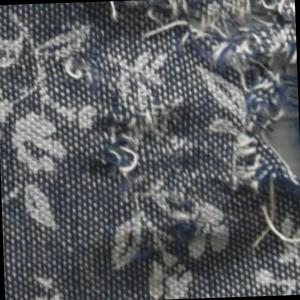Damage: (73, 1, 300, 267)
